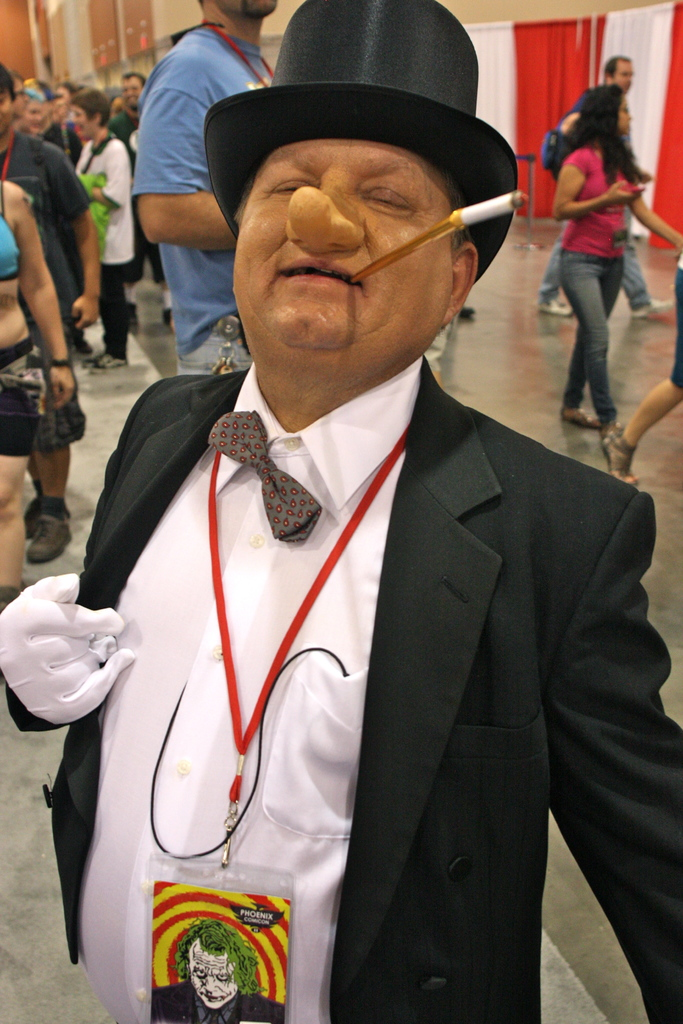Human-face: (231, 140, 453, 352), (222, 0, 278, 11), (616, 60, 635, 92), (71, 108, 92, 135), (124, 77, 141, 109), (620, 95, 635, 130), (24, 104, 40, 134), (0, 88, 12, 127)
